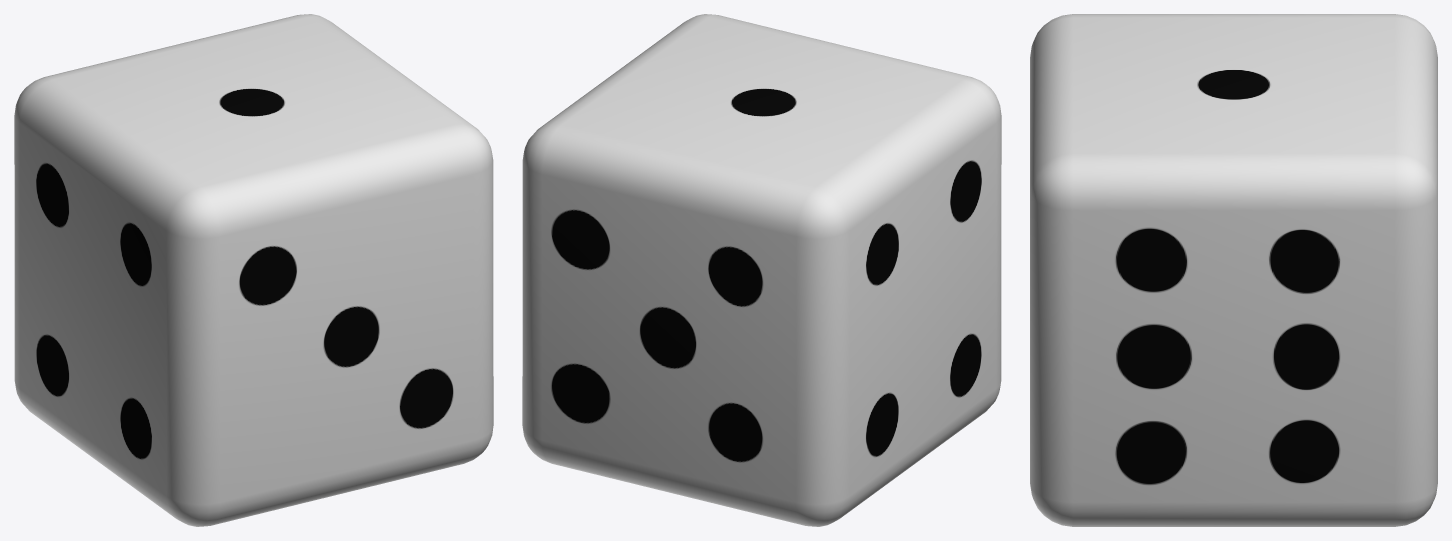
File: dice.fbx
3 renders of one model, left to right at view 1: azimuth 30°, elevation 25°; view 2: azimuth 150°, elevation 25°; view 3: azimuth 270°, elevation 25°, orthographic. The views are drawn at different scales.
Parts seen in each view (by area): view 1: dice; view 2: dice; view 3: dice.
Boxes of the visible parts, <box> form: dice: <box>14,14,493,526</box>; dice: <box>522,14,1001,526</box>; dice: <box>1030,14,1437,526</box>.
Bounding box in the file's own units: 23.03 × 23.03 × 23.01.
